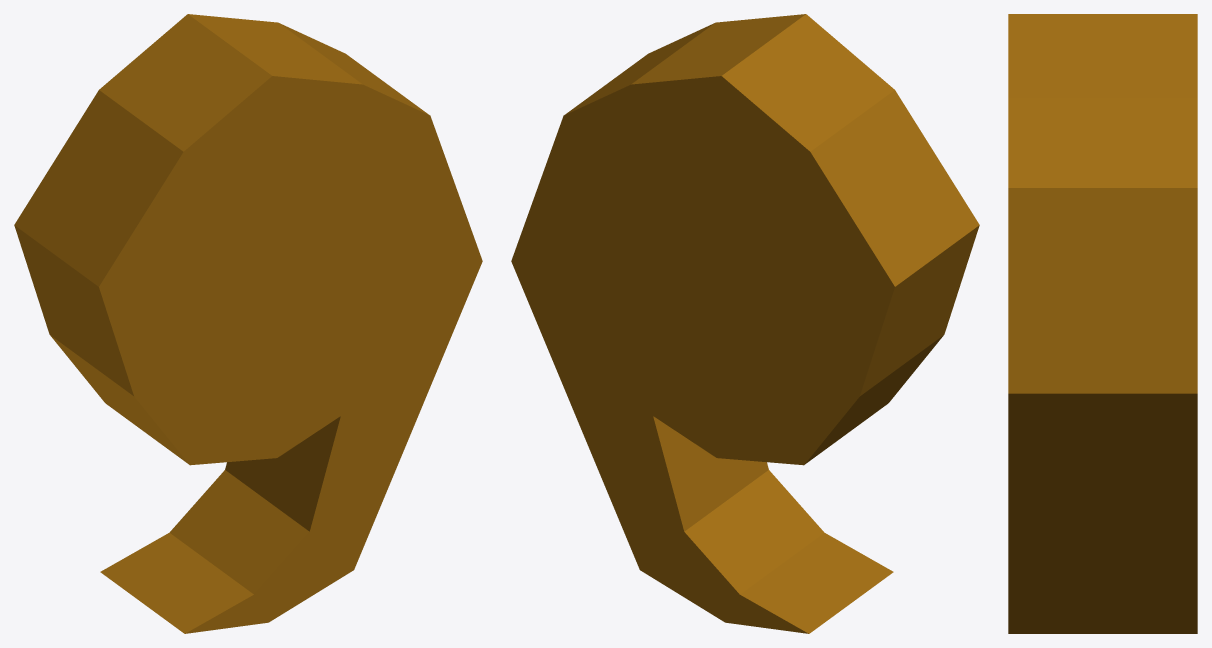
File: sign_yuyan_douhao.FBX
3 renders of one model, left to right at view 1: azimuth 30°, elevation 25°; view 2: azimuth 150°, elevation 25°; view 3: azimuth 270°, elevation 25°, orthographic. The views are drawn at different scales.
Visible parts, largest first — view 1: Box001; view 2: Box001; view 3: Box001.
Part boxes in pixels (box(x1,y1,x2,y2)): Box001: box(14, 14, 482, 633); Box001: box(511, 14, 979, 633); Box001: box(1008, 14, 1197, 633).
Size of the model in its own units: 133 by 181 by 50.76.
